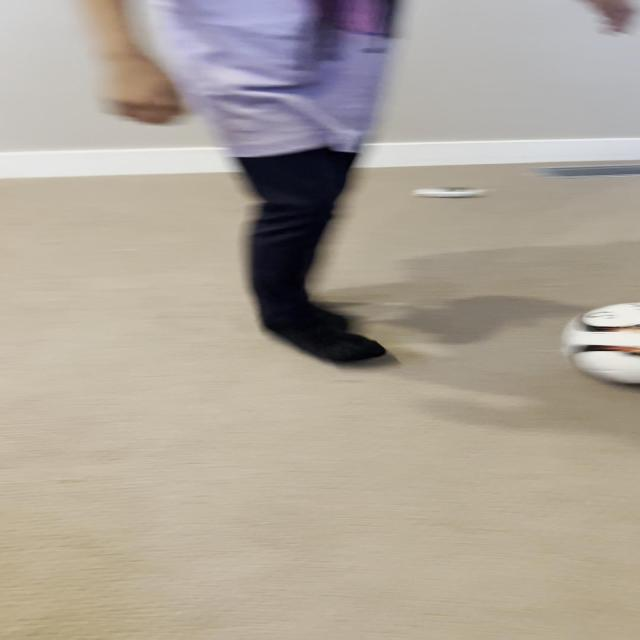Soccer Ball: (567, 301, 640, 386)
